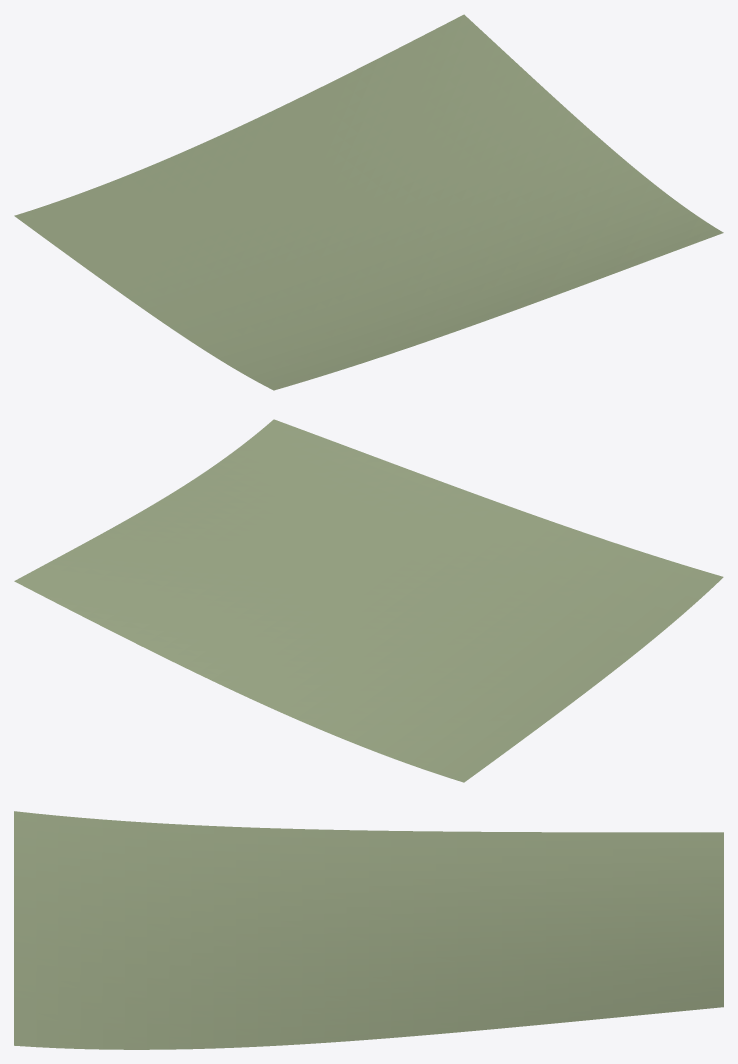
Rendered from expanse-24-19.glb.
3 renders of one model, top to bottom at view 1: azimuth 30°, elevation 25°; view 2: azimuth 150°, elevation 25°; view 3: azimuth 270°, elevation 25°, orthographic. The views are drawn at different scales.
Visible parts, largest first — view 1: expanse-24-19; view 2: expanse-24-19; view 3: expanse-24-19.
Part boxes in pixels (x1,y1,x2,y2): expanse-24-19: [14, 14, 723, 390]; expanse-24-19: [14, 419, 723, 782]; expanse-24-19: [14, 811, 723, 1049].
Bounding box in the file's own units: 256 × 49.82 × 256.
